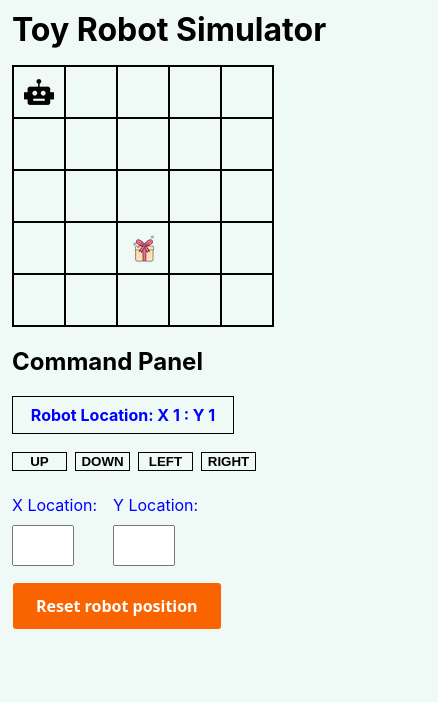
Test: Home page › prevents robot from falling off if it is on the edge and displays a warning message
The image size is (438, 702).
Click the button with test id "arrow-left".
click(166, 462)  # box top-left (138, 452), bottom-right (193, 471)
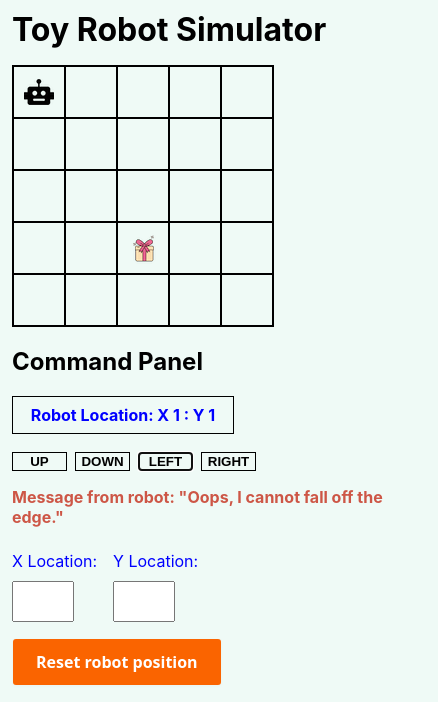
Expected: the picture with test id "robot-icon" is shown, top-left (24, 79), bottom-right (54, 105)
Expected: the text "Message from robot: \"Oops, I cannot fall off the edge.\"" is shown, top-left (12, 487), bottom-right (422, 527)
Expected: the text with test id "robot-message" shows "cannot fall off", top-left (12, 487), bottom-right (383, 527)
